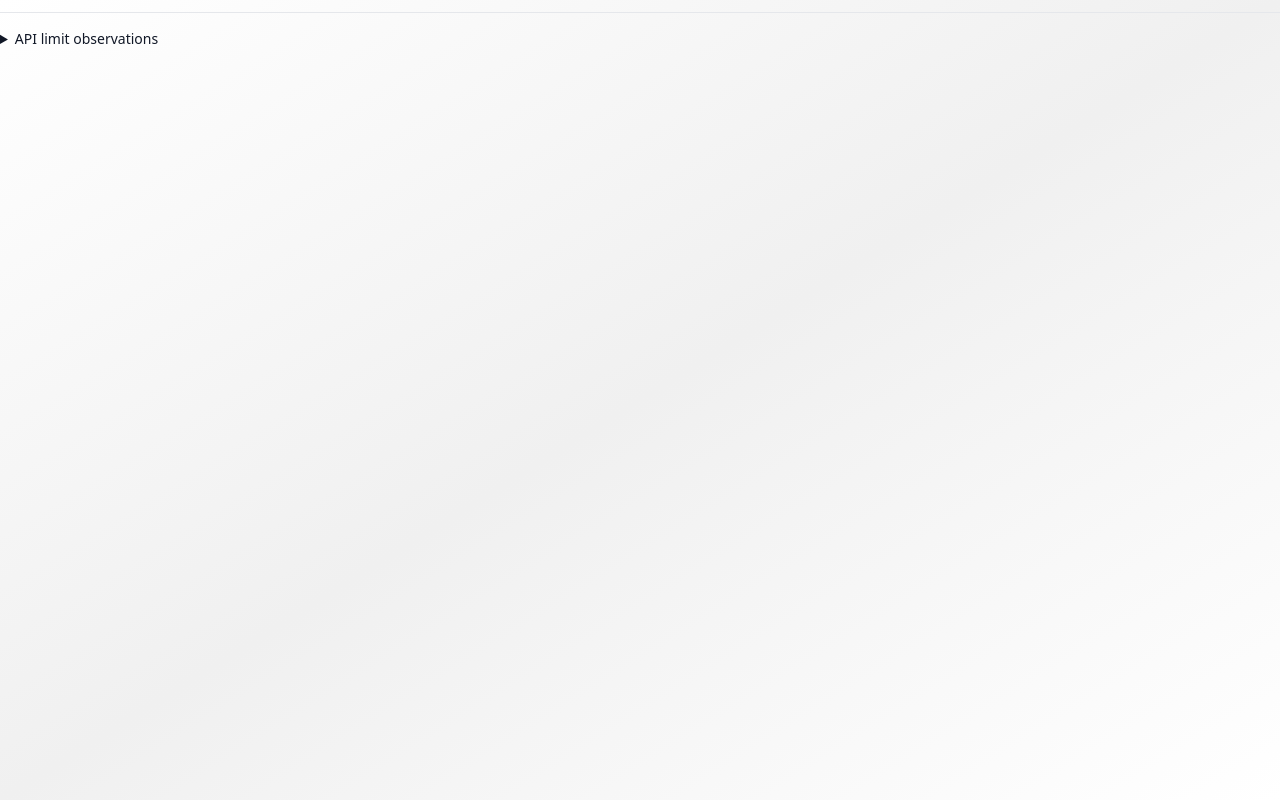
provider HTTP limit observations › shows a status-only subscription observation with status constructor
Click the heading "API limit observations": (86, 38) [15, 29, 158, 48]
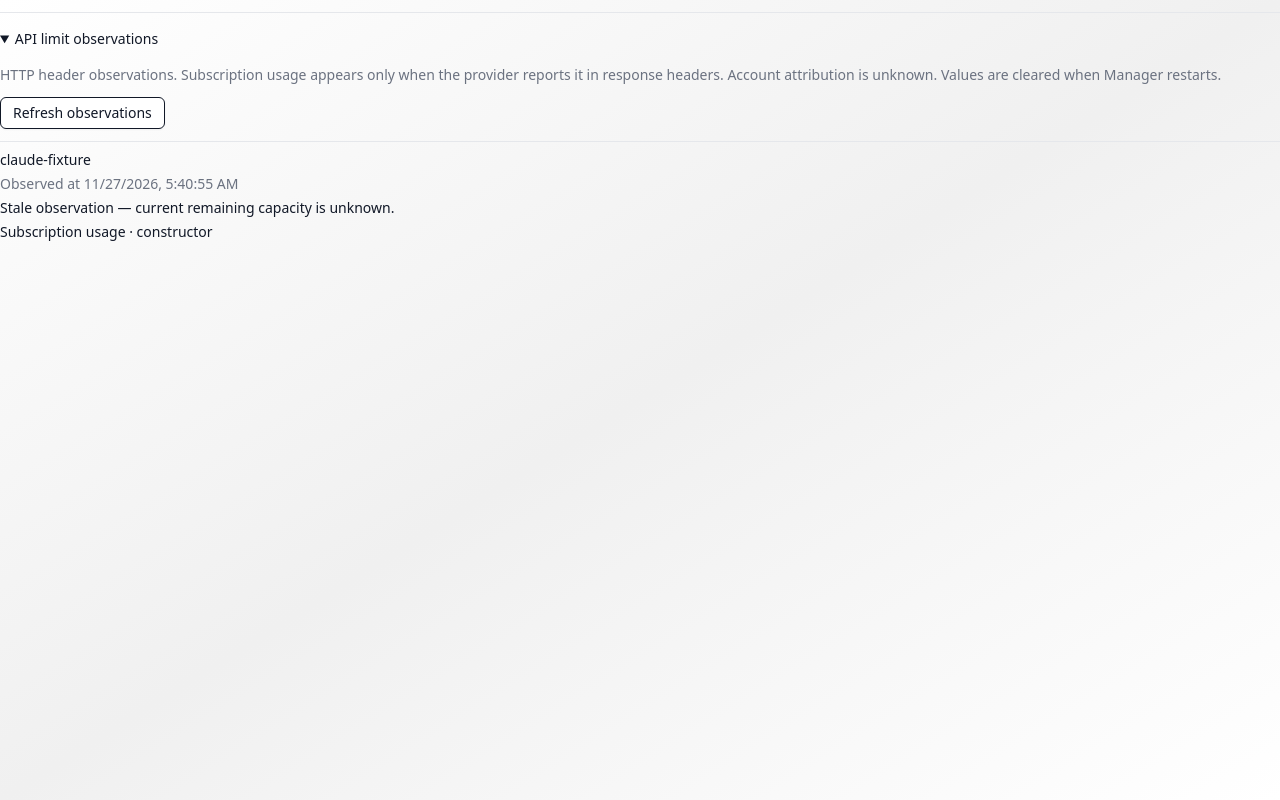
expect the element with test id "subscription-usage" does not show "function": met, box [0, 222, 213, 241]
expect the element with test id "subscription-usage" reads "Subscription usage · constructor": met, box [0, 222, 213, 241]
